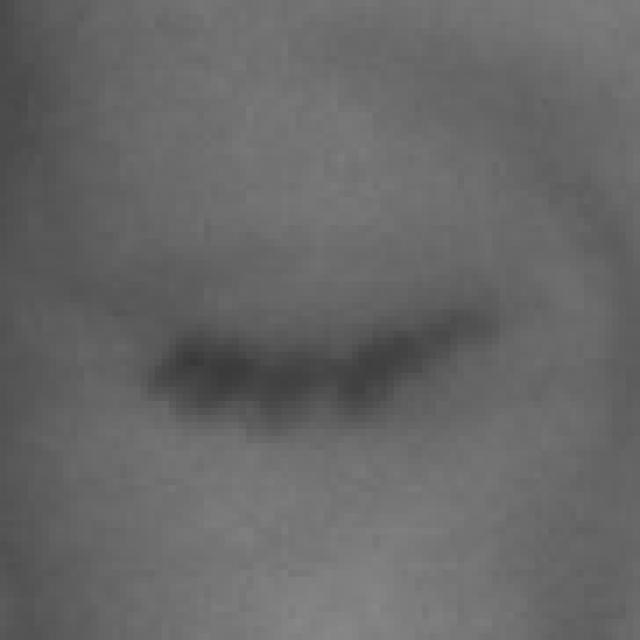Eyeclosed: (158, 191, 474, 539)
